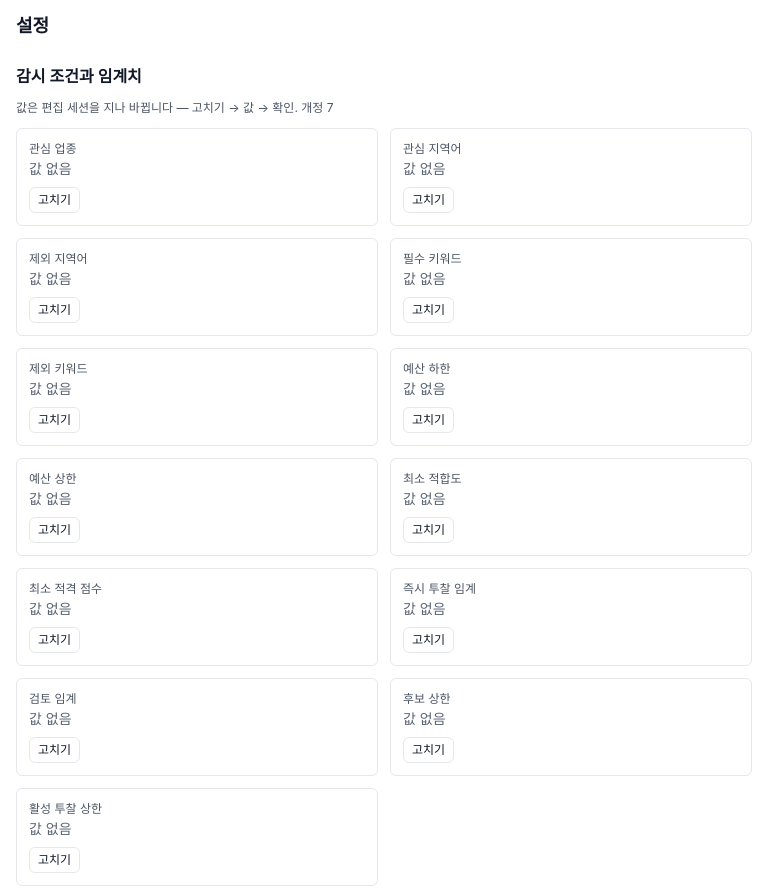
it: 설정 — 전략은 편집 세션으로만 바뀐다 › 고치기가 세션을 시작하고 그 칸을 싣는다
Click the button "고치기" below "활성 투찰 상한".
click(55, 860)  # box [29, 847, 80, 873]
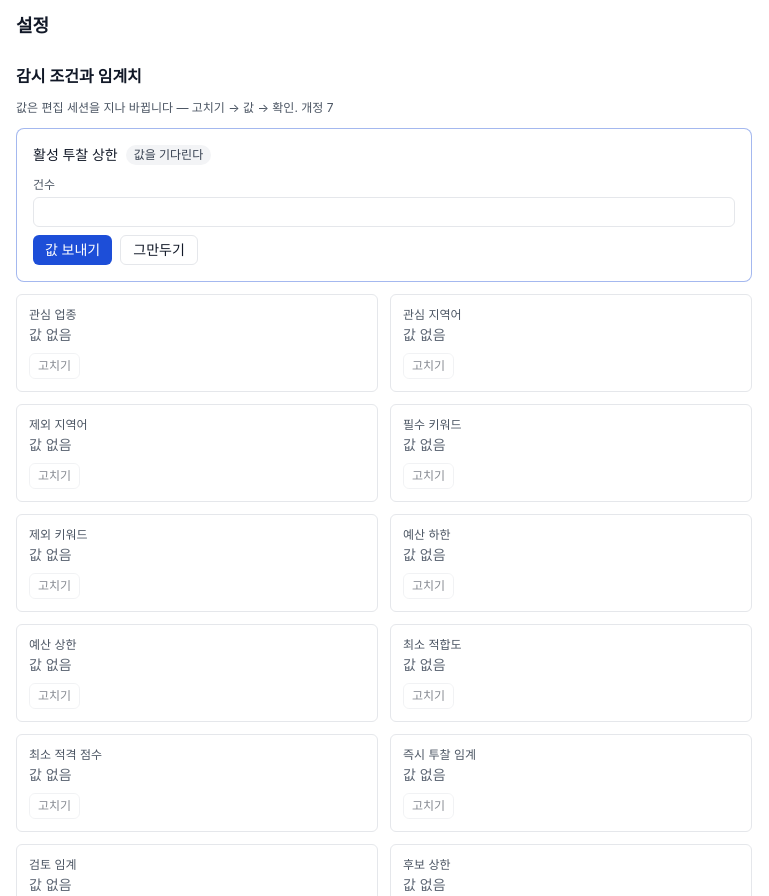
Now the element with test id "edit-session" is shown, box [16, 128, 752, 282]
